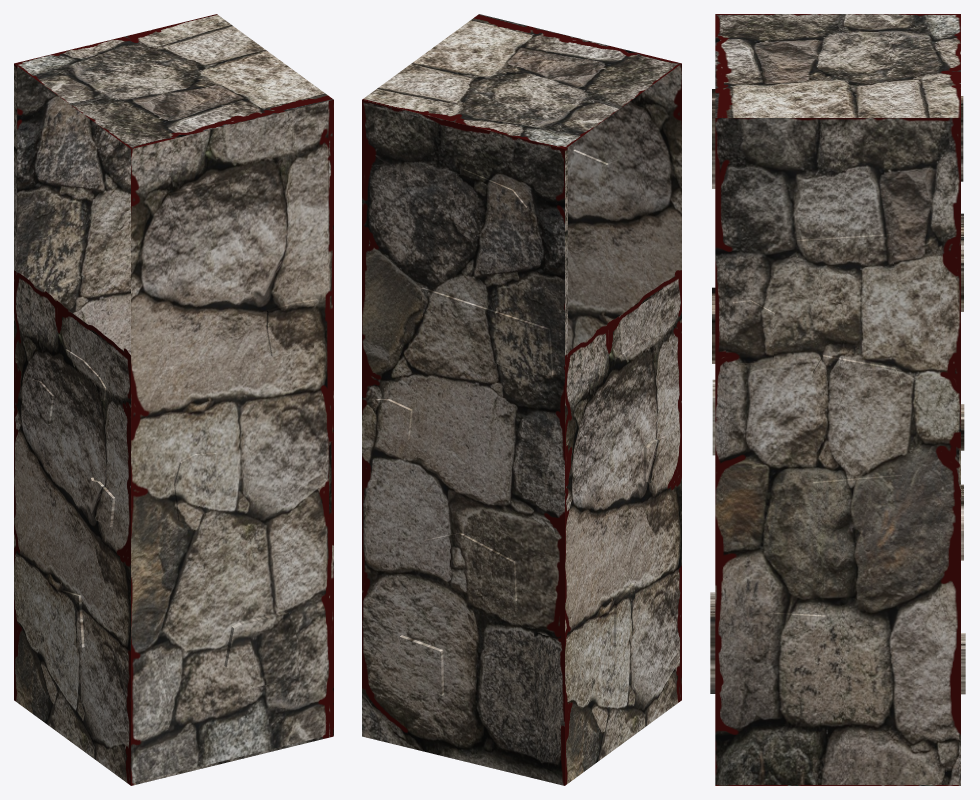
The model's file is Muro21.obj.
3 views of the same model, side by side, from view 1: azimuth 30°, elevation 25°; view 2: azimuth 150°, elevation 25°; view 3: azimuth 270°, elevation 25° (orthographic). The views are drawn at different scales.
Parts seen in each view (by area): view 1: Cube; view 2: Cube; view 3: Cube.
Boxes of the visible parts, bbox=[...] form: Cube: bbox=[14, 14, 333, 785]; Cube: bbox=[362, 14, 681, 785]; Cube: bbox=[710, 14, 965, 785].
Bounding box in the file's own units: 2.07 × 6 × 2.08.
